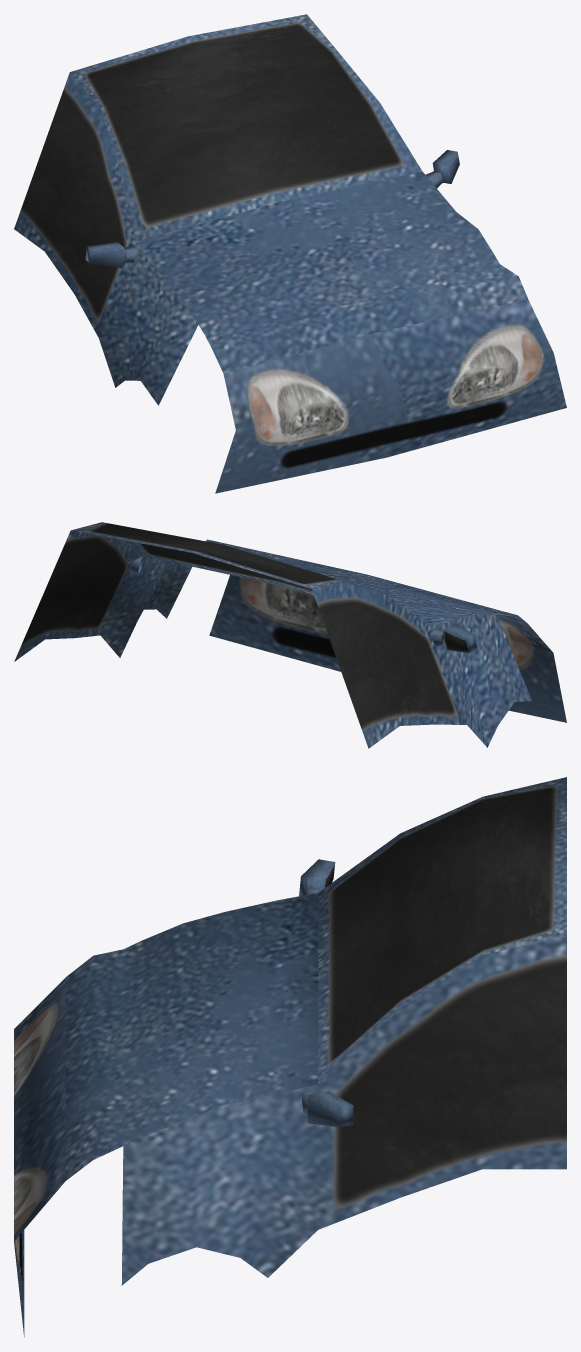
Rendered from CutsceneCar.fbx.
3 renders of one model, top to bottom at view 1: azimuth 30°, elevation 25°; view 2: azimuth 150°, elevation 25°; view 3: azimuth 270°, elevation 25°, orthographic. The views are drawn at different scales.
Parts seen in each view (by area): view 1: CutsceneCar; view 2: CutsceneCar; view 3: CutsceneCar.
Boxes of the visible parts, left/top/right/bottom form: CutsceneCar: left=14, top=14, right=566, bottom=493; CutsceneCar: left=14, top=522, right=566, bottom=748; CutsceneCar: left=14, top=777, right=566, bottom=1337.
Size of the model in its own units: 7.32 by 5.11 by 6.77.
2 materials, 2 textured.
